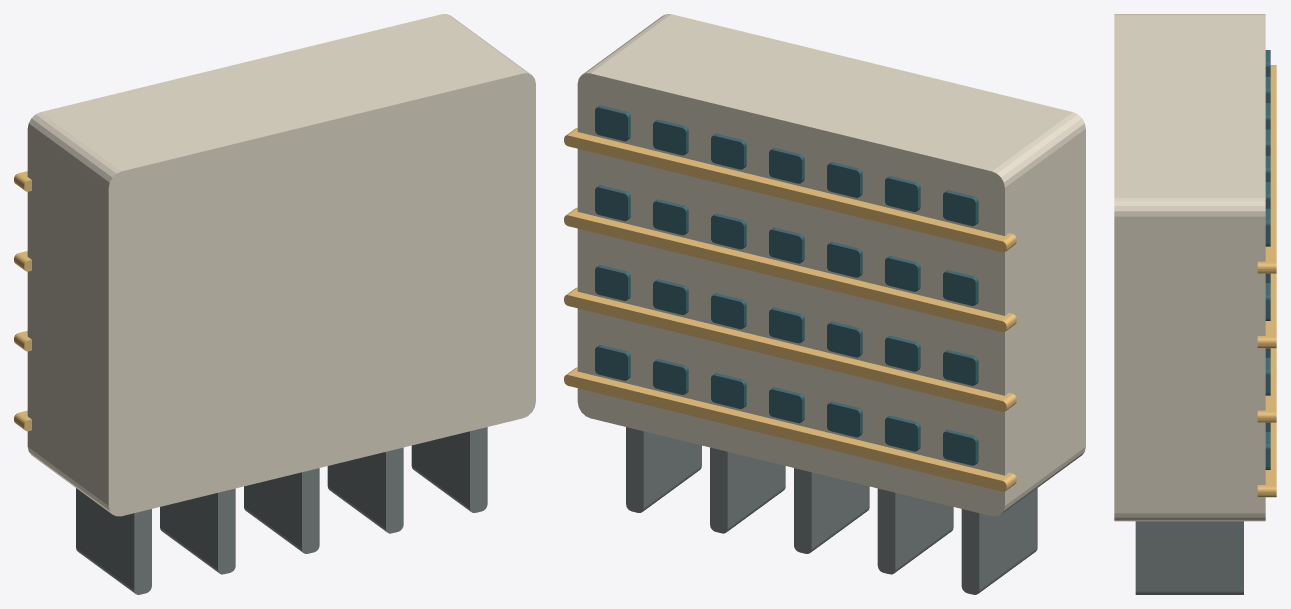
Rendered from hdb-slab.glb.
The picture shows the model from 3 angles, left to right: view 1: azimuth 30°, elevation 25°; view 2: azimuth 150°, elevation 25°; view 3: azimuth 270°, elevation 25°; orthographic projection. The views are drawn at different scales.
Visible parts, largest first — view 1: bevelled_slab, void_deck, corridor_bands; view 2: bevelled_slab, corridor_bands, window_balcony_recesses, void_deck; view 3: bevelled_slab, void_deck, corridor_bands, window_balcony_recesses.
Boxes of the visible parts, x1,y1,x2,y2 form: bevelled_slab: [27, 14, 535, 516]; void_deck: [76, 427, 487, 594]; corridor_bands: [14, 171, 31, 431]; bevelled_slab: [577, 14, 1085, 516]; corridor_bands: [564, 128, 1016, 491]; window_balcony_recesses: [595, 105, 978, 465]; void_deck: [626, 427, 1037, 594]; bevelled_slab: [1114, 14, 1265, 521]; void_deck: [1135, 521, 1243, 594]; corridor_bands: [1257, 65, 1276, 497]; window_balcony_recesses: [1265, 50, 1270, 469].
Size of the model in its own units: 14.5 by 13.75 by 4.94.
